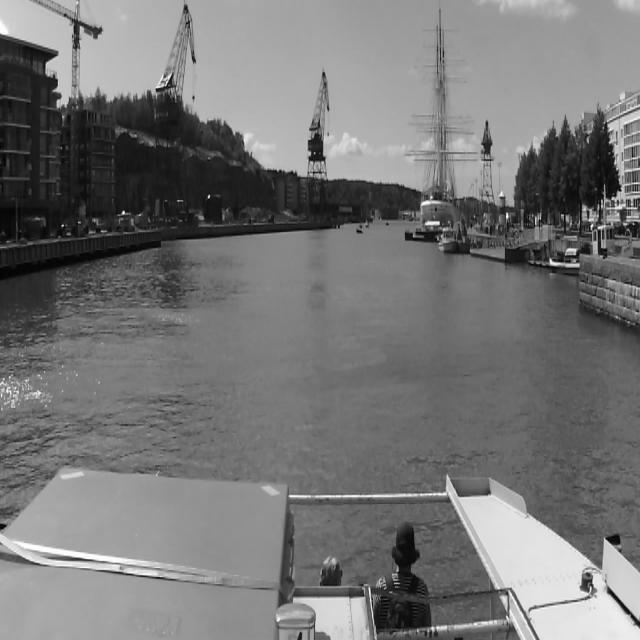ship: (409, 11, 477, 218), (548, 182, 616, 274), (437, 224, 457, 252), (415, 220, 439, 241), (355, 224, 363, 235), (364, 218, 370, 228), (385, 221, 389, 226)
